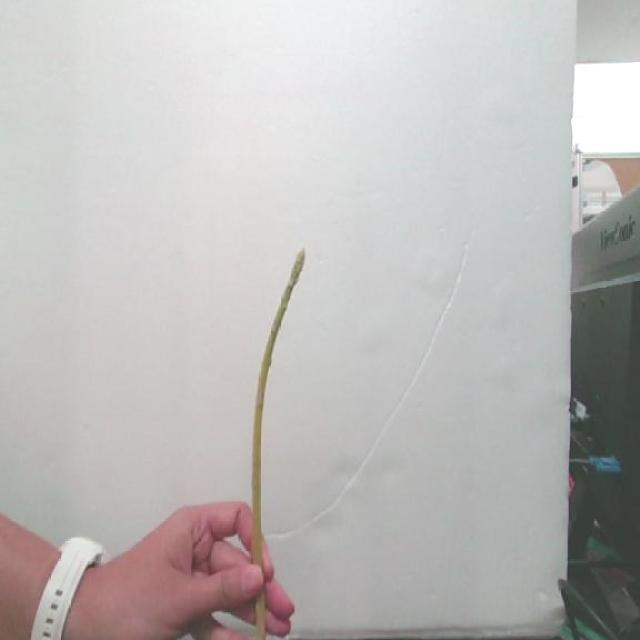aspargus: (250, 251, 307, 571)
